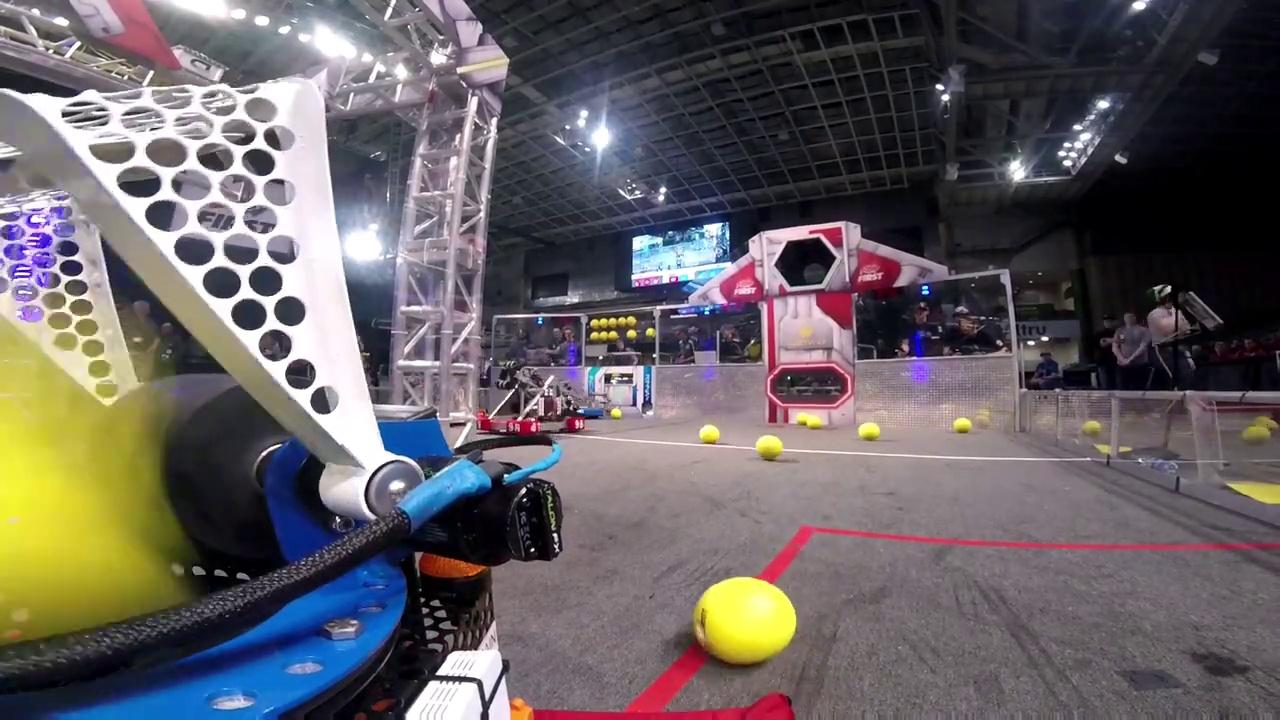robot: (475, 360, 586, 437), (569, 387, 615, 420)
